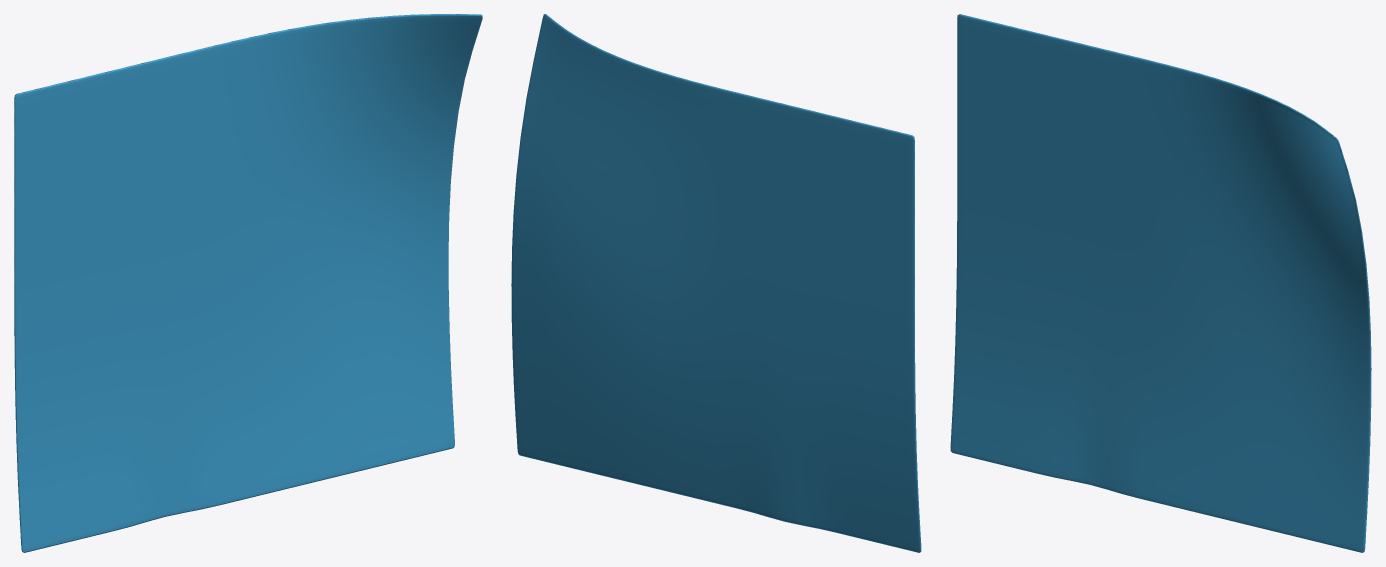
3 renders of one model, left to right at view 1: azimuth 30°, elevation 25°; view 2: azimuth 150°, elevation 25°; view 3: azimuth 330°, elevation 25°, orthographic. The views are drawn at different scales.
Parts seen in each view (by area): view 1: Object057; view 2: Object057; view 3: Object057.
Boxes of the visible parts, x1=… form: Object057: x1=14, y1=14, x2=482, y2=552; Object057: x1=511, y1=14, x2=921, y2=552; Object057: x1=950, y1=14, x2=1371, y2=552.
Size of the model in its own units: 0.0325 by 0.0325 by 0.005.
